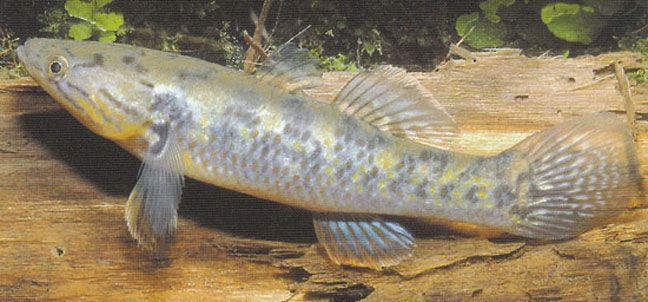Goby: (16, 35, 638, 275)
